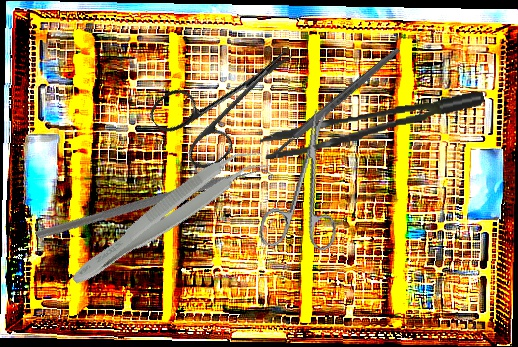Chopper: (34, 82, 281, 333)
Iris Scissors: (144, 15, 318, 179), (256, 102, 361, 259)
Scalpel Handle: (268, 45, 403, 160)
Tissue Forceps: (65, 135, 271, 300), (257, 91, 488, 160)
